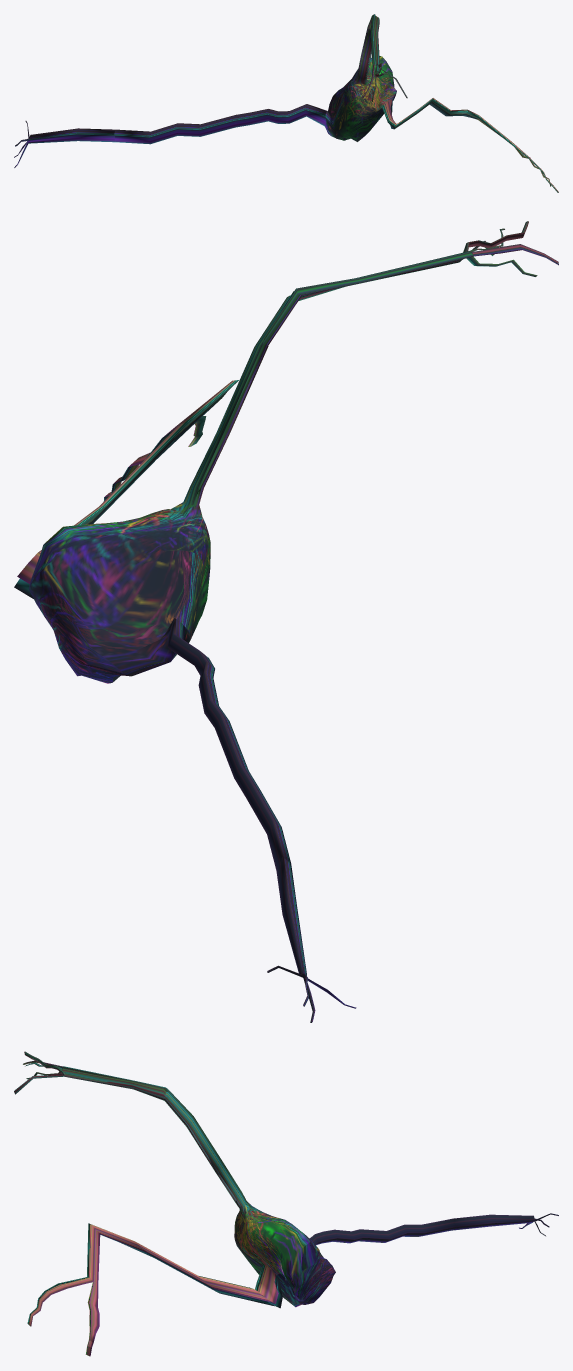
File: neuron14.fbx
The picture shows the model from 3 angles, top to bottom: view 1: azimuth 30°, elevation 25°; view 2: azimuth 150°, elevation 25°; view 3: azimuth 270°, elevation 25°; orthographic projection. The views are drawn at different scales.
Parts seen in each view (by area): view 1: DONE1; view 2: DONE1; view 3: DONE1.
Part boxes in pixels (x1=…): DONE1: x1=14, y1=14, x2=558, y2=192; DONE1: x1=14, y1=221, x2=558, y2=1022; DONE1: x1=14, y1=1051, x2=558, y2=1356.
Bounding box in the file's own units: 39417 × 25868 × 51173.
